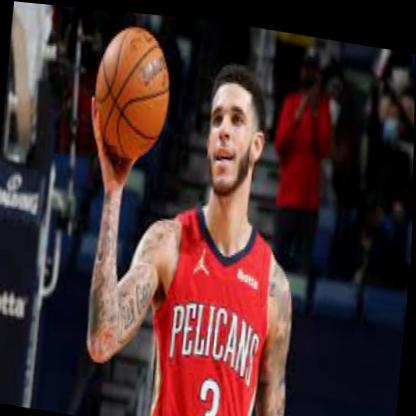basketball: (90, 19, 175, 161)
